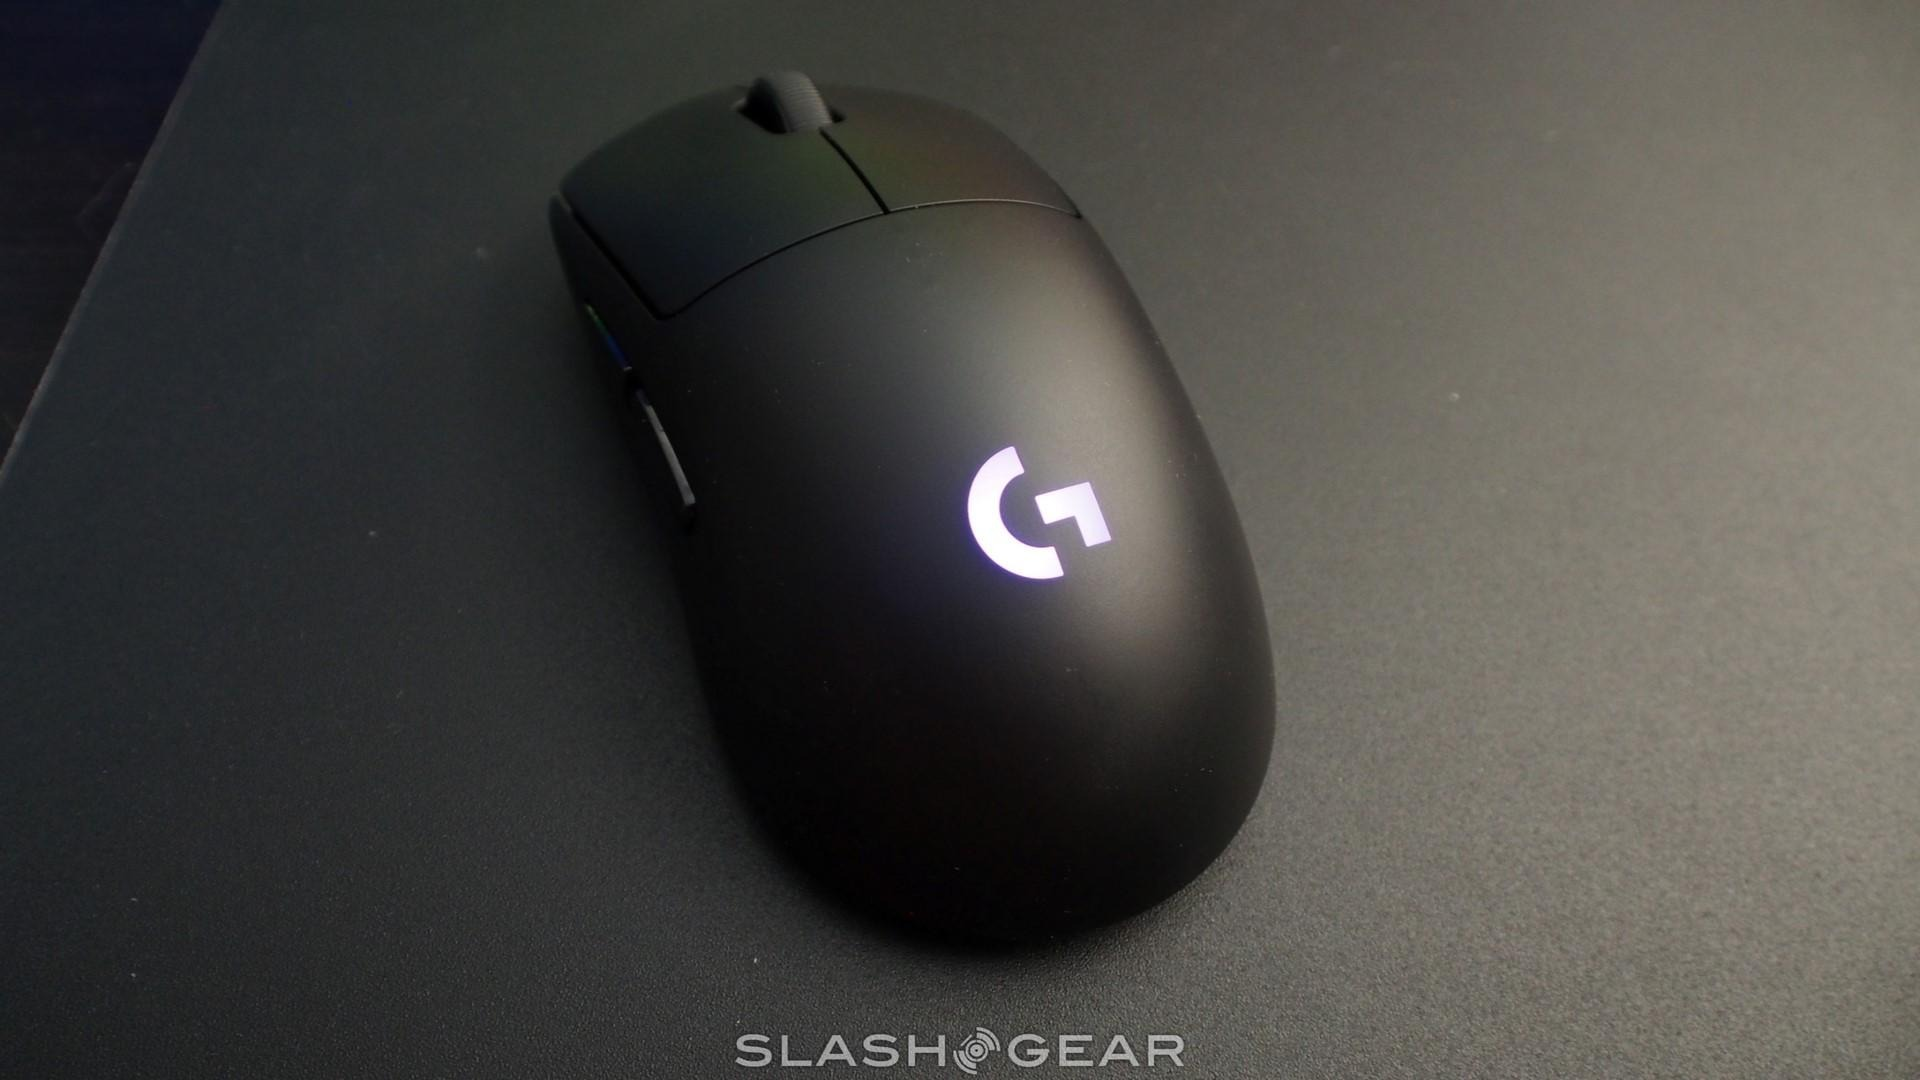mouse: (541, 67, 1292, 953)
